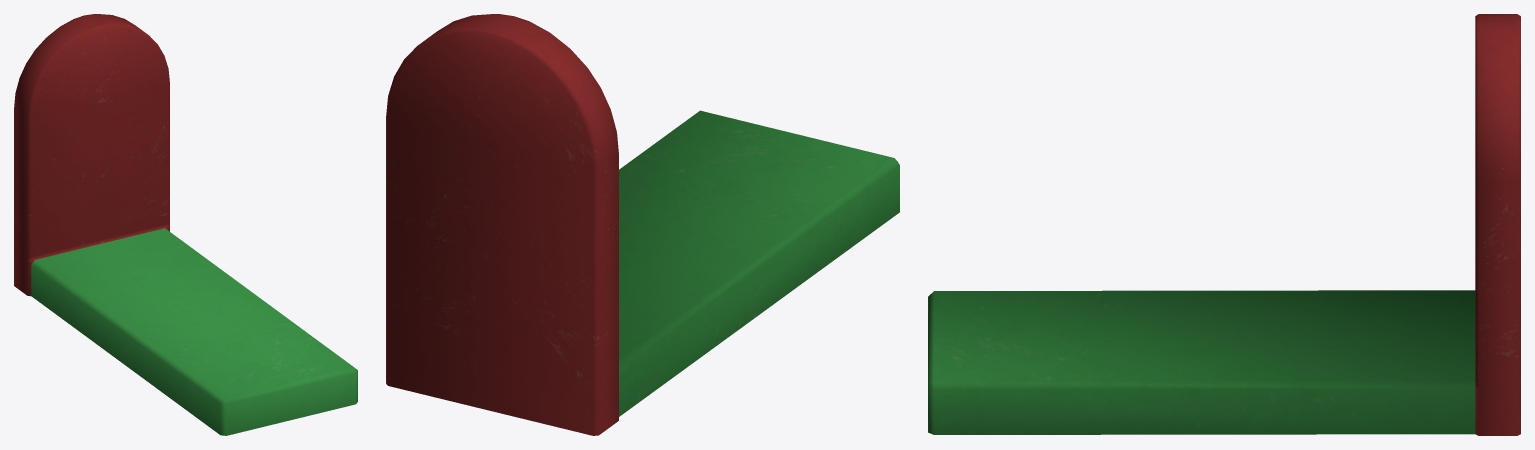
Rendered from GraveStone_4.fbx.
3 views of the same model, side by side, from view 1: azimuth 30°, elevation 25°; view 2: azimuth 150°, elevation 25°; view 3: azimuth 270°, elevation 25° (orthographic). The views are drawn at different scales.
Parts seen in each view (by area): view 1: GraveStone_4; view 2: GraveStone_4; view 3: GraveStone_4.
Boxes of the visible parts, x1,y1,x2,y2 form: GraveStone_4: [14, 14, 357, 435]; GraveStone_4: [386, 14, 899, 435]; GraveStone_4: [928, 14, 1520, 435].
Size of the model in its own units: 58.48 by 99.43 by 147.
